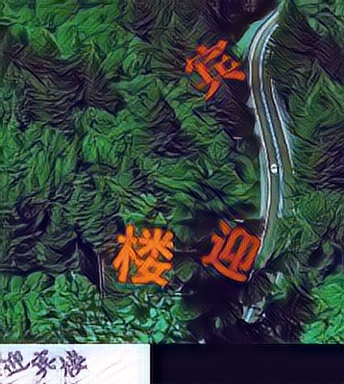B1F6: (185, 38, 246, 103)
C2A5: (112, 222, 173, 287)
D3AD: (200, 218, 261, 283)
